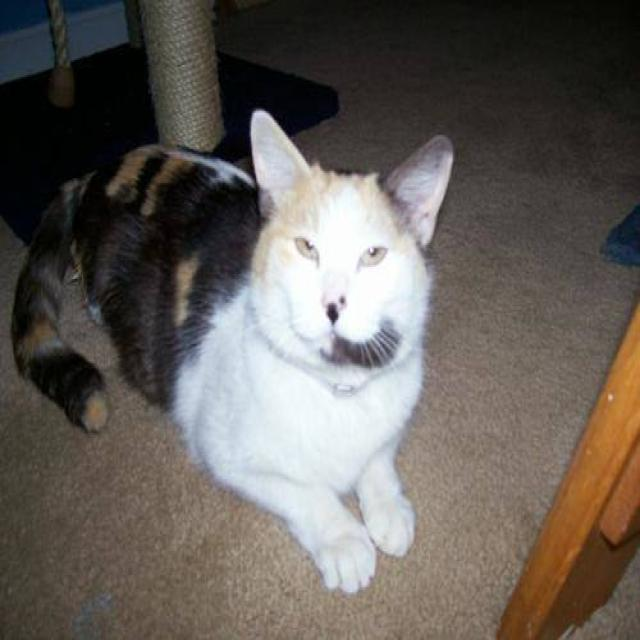cat: (9, 106, 454, 596)
